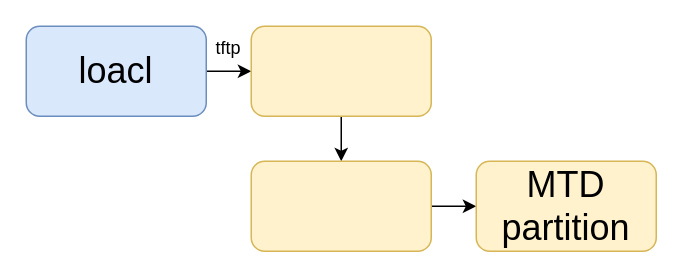
The diagram is 683 pixels wide and 278 high, and some of its shapes have lost their labels. The centre of each missing label's shape, as x and y in pixels:
dev board: [340,70]
script: [340,205]
